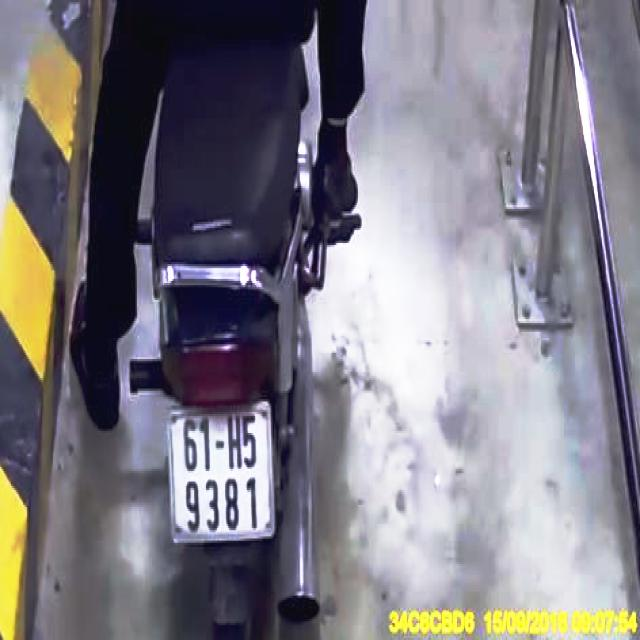license_plate: (171, 401, 276, 539)
